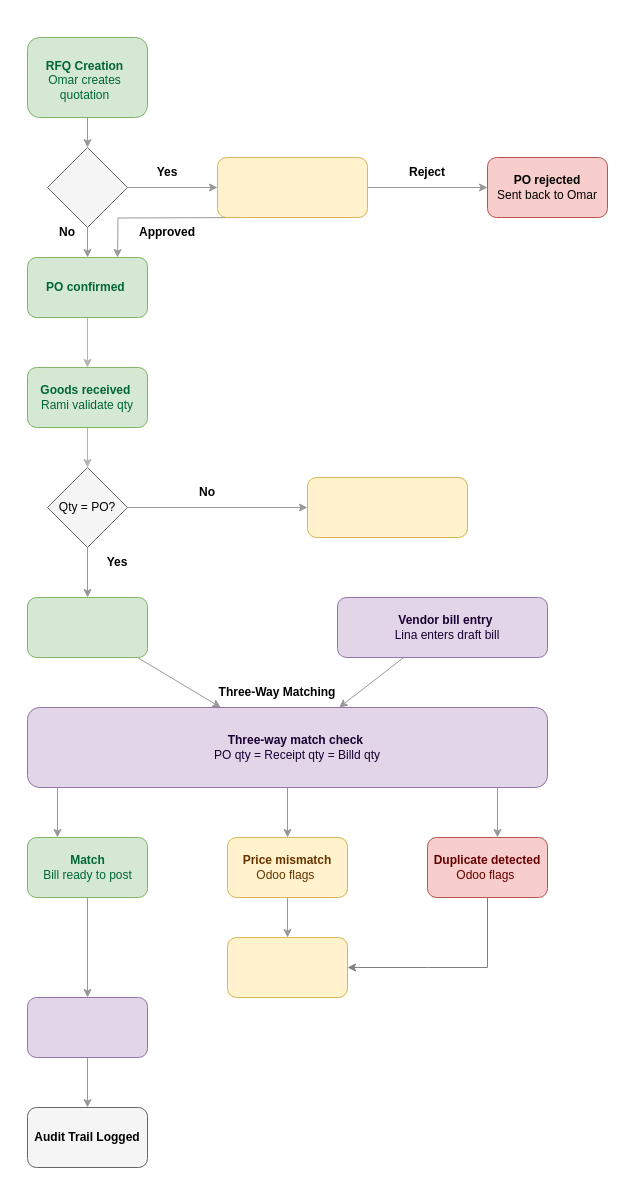
Image size: 634x1185. Some labels were removed from this diagram. The shapes that lost their labels are listed below. From the top down, each one's centre as x and y in pixels, then its label:
pixel 87 187: PO> 500 JD?
pixel 292 187: Manegerial Approval "To Approve" Status
pixel 387 507: Create backorder
pixel 87 627: Stock updated Putaway Rules applied
pixel 287 967: AP control review
pixel 87 1027: Bill posted AP balance updated
